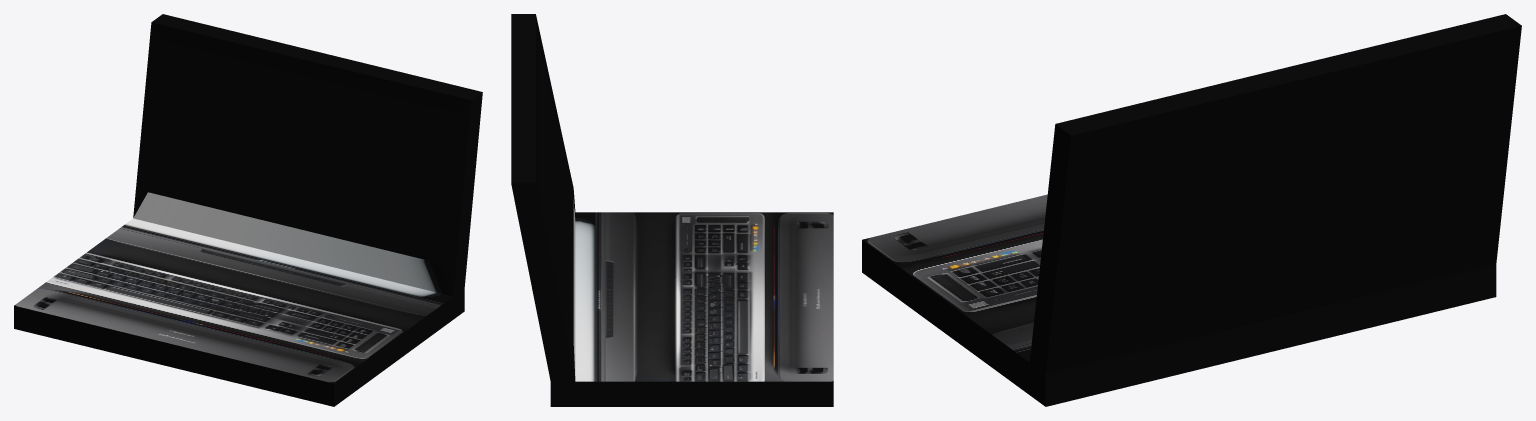
The model's file is laptop.glb.
The picture shows the model from 3 angles, left to right: view 1: azimuth 30°, elevation 25°; view 2: azimuth 150°, elevation 25°; view 3: azimuth 270°, elevation 25°; orthographic projection. The views are drawn at different scales.
Visible parts, largest first — view 1: Cube.017; view 2: Cube.017; view 3: Cube.017.
Part boxes in pixels (<box>): Cube.017: <box>14,14,482,406</box>; Cube.017: <box>511,14,833,406</box>; Cube.017: <box>862,14,1521,406</box>.
Size of the model in its own units: 0.8048 by 0.4136 by 0.8529.
Materials: 2 (1 with a texture image).
